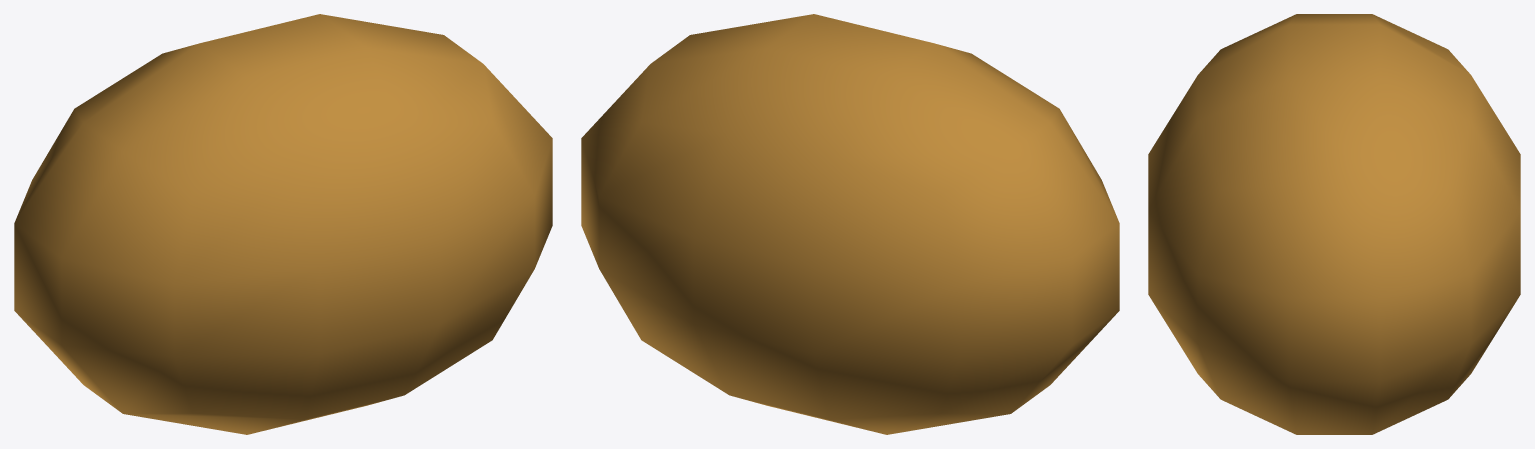
File: Fridgerer_Potatos.glb
3 renders of one model, left to right at view 1: azimuth 30°, elevation 25°; view 2: azimuth 150°, elevation 25°; view 3: azimuth 270°, elevation 25°, orthographic. The views are drawn at different scales.
Parts seen in each view (by area): view 1: Potato; view 2: Potato; view 3: Potato.
Boxes of the visible parts, x1,y1,x2,y2 form: Potato: (14,14,552,434); Potato: (581,14,1119,434); Potato: (1148,14,1520,434).
Bounding box in the file's own units: 0.136 × 0.0945 × 0.0929.
